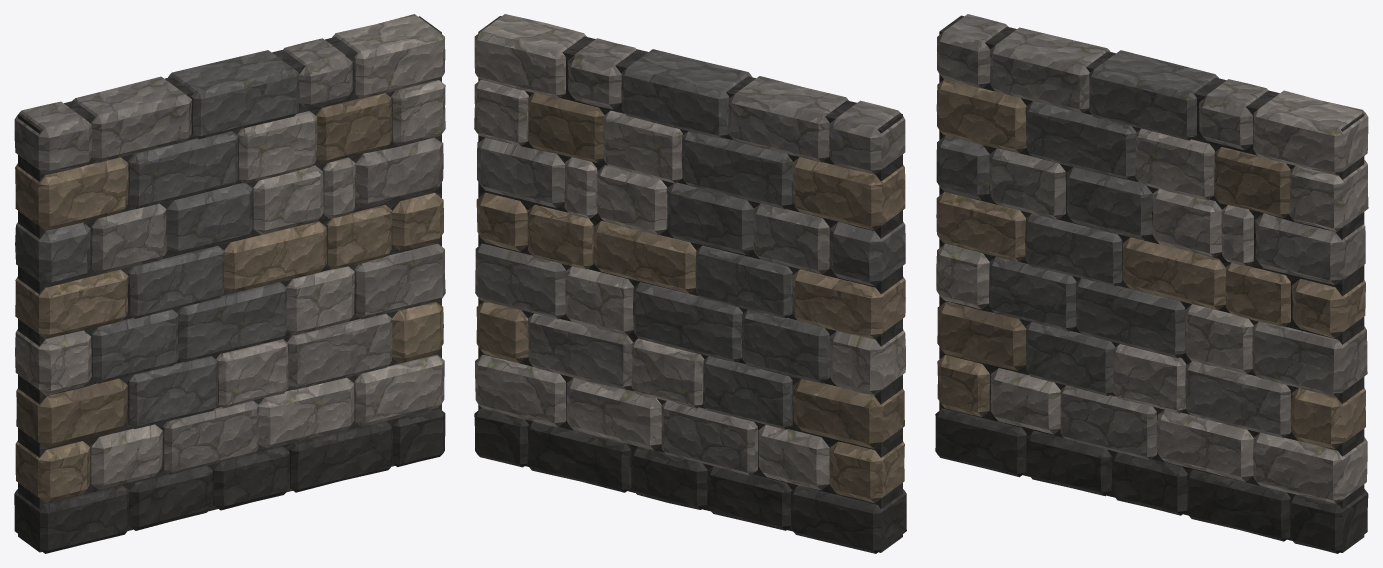
Rendered from wall__cut_stone.glb.
The picture shows the model from 3 angles, left to right: view 1: azimuth 30°, elevation 25°; view 2: azimuth 150°, elevation 25°; view 3: azimuth 330°, elevation 25°; orthographic projection.
Parts seen in each view (by area): view 1: model; view 2: model; view 3: model.
Boxes of the visible parts, <box> form: model: <box>14,14,445,553</box>; model: <box>474,14,906,553</box>; model: <box>935,14,1368,553</box>.
Size of the model in its own units: 1.99 by 1.99 by 0.2827.
Materials: 6 (6 with a texture image).
